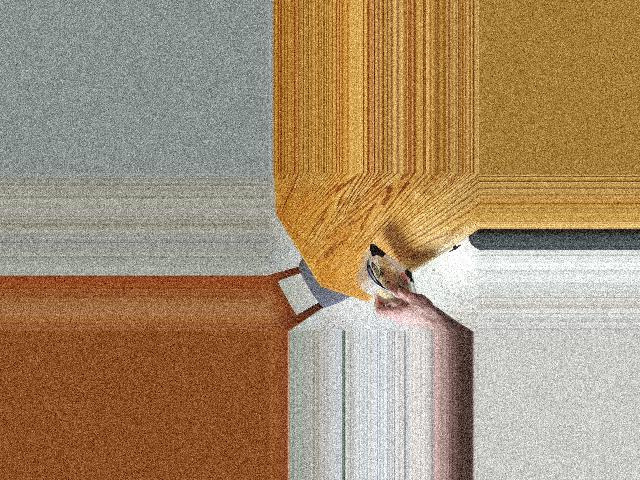cheese: (352, 247, 434, 302)
